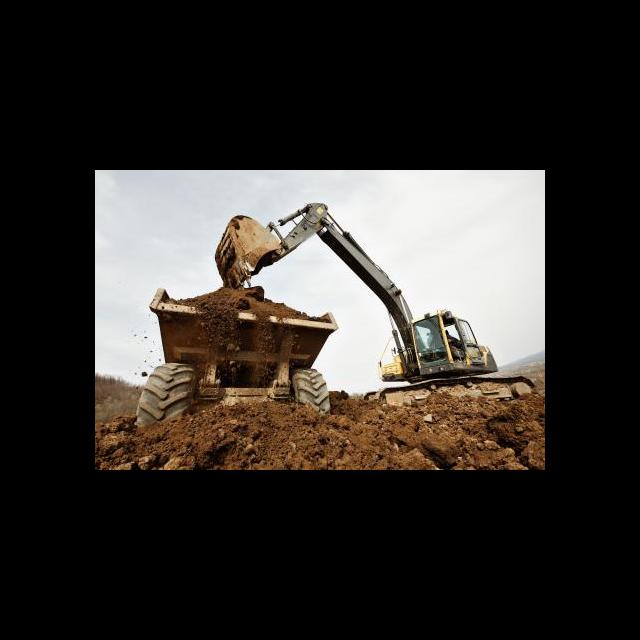Excavator: (213, 200, 536, 406)
dump truck: (136, 288, 338, 431)
